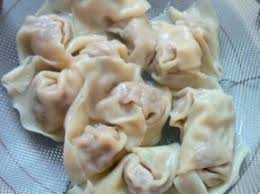Pangsit: (53, 86, 142, 182), (174, 94, 244, 191), (134, 9, 223, 85), (9, 63, 89, 131), (10, 5, 82, 60)
